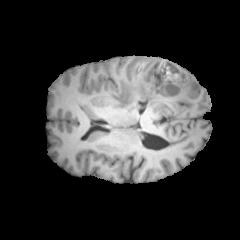glioma: (111, 57, 199, 112)
